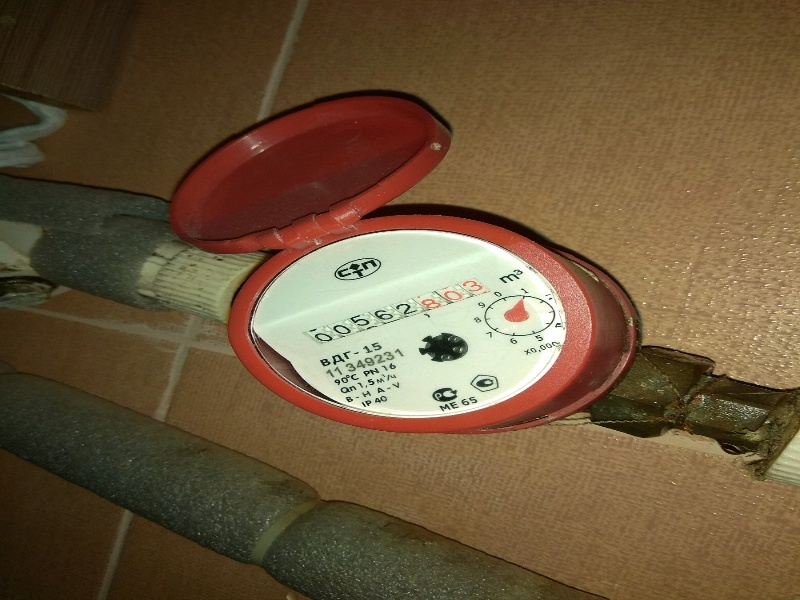dial: (303, 298, 489, 337)
